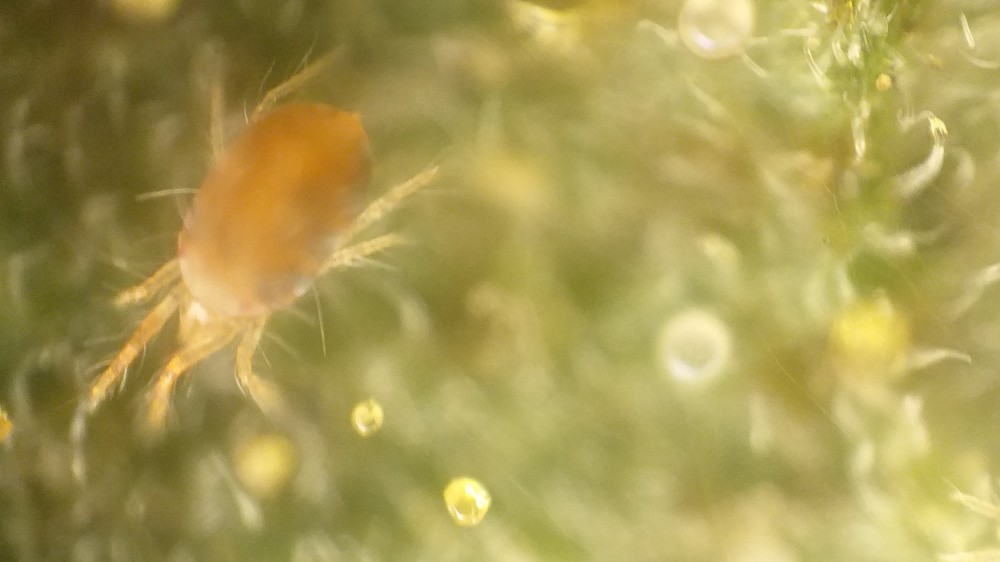Aracnido Rojo: (75, 46, 452, 419)
